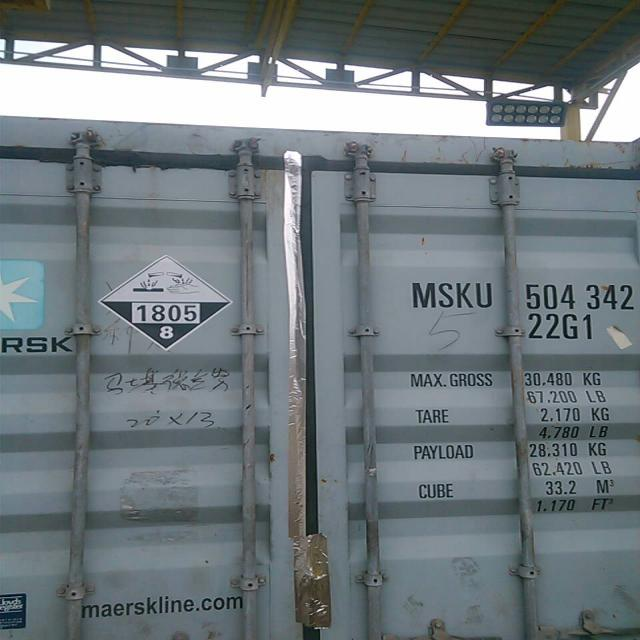rust: (561, 157, 640, 173), (460, 137, 492, 168), (575, 138, 638, 151), (518, 137, 568, 147), (33, 116, 74, 127), (264, 450, 283, 472), (399, 146, 411, 168), (420, 237, 430, 250)
